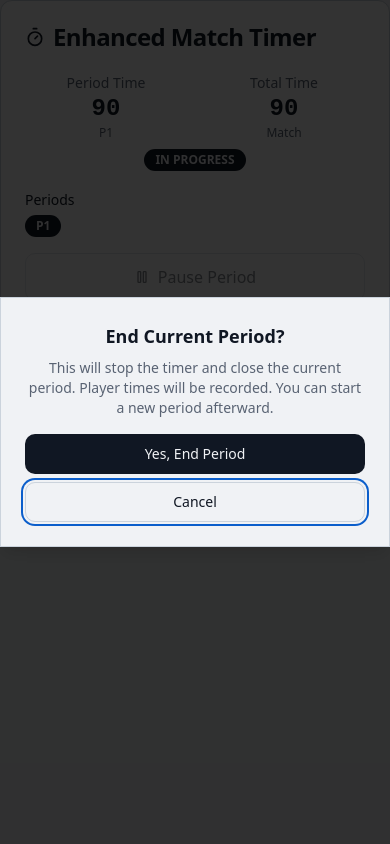
EnhancedMatchControls › the confirm is gated, not just the trigger › End Period: same — a displaced coach cannot confirm
Earlier steps of the test are not shown.
Click the button "Yes, End Period" at (195, 454), box [25,434,365,474]
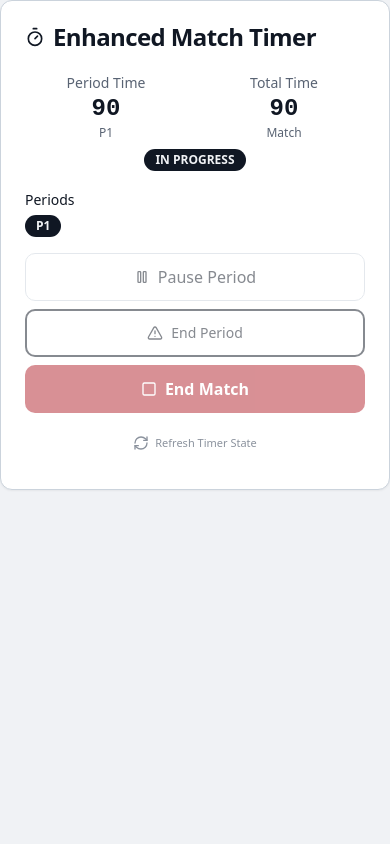
Check: the dialog is gone
